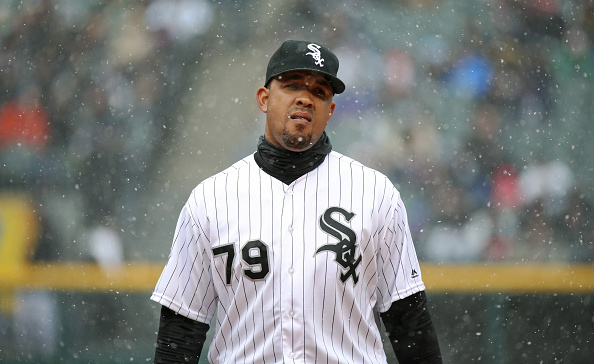em pe: (146, 26, 455, 364)
